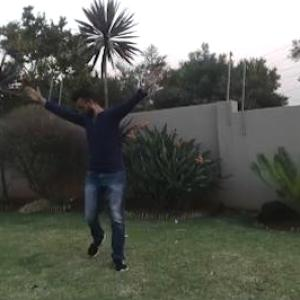takeoff: (18, 69, 180, 284)
